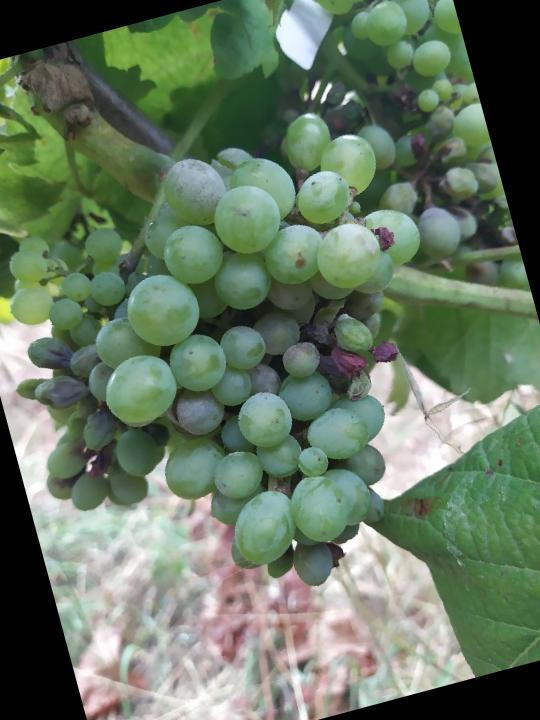grape: (0, 88, 507, 652)
